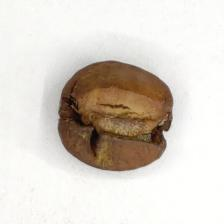NG: (69, 83, 165, 153)
